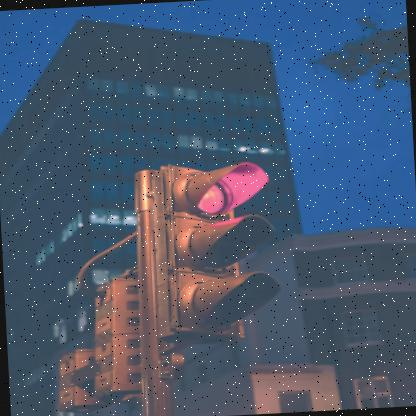trafficlight: (144, 155, 281, 345)
